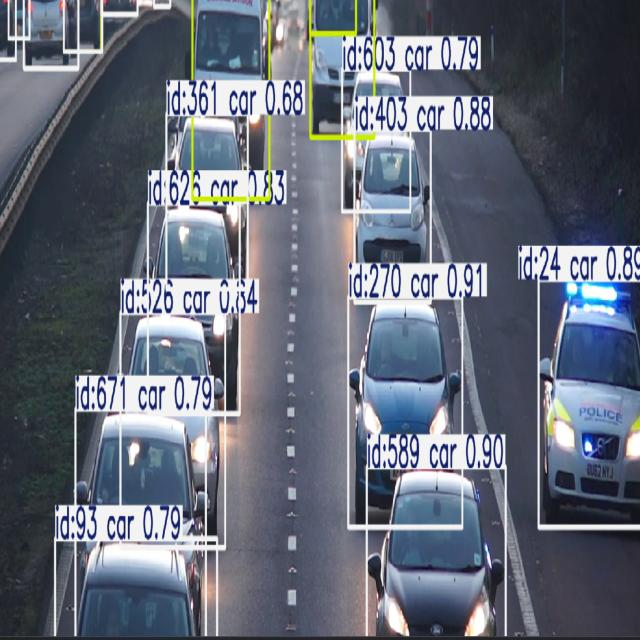emergency lights: (564, 282, 636, 325), (581, 431, 593, 470)
